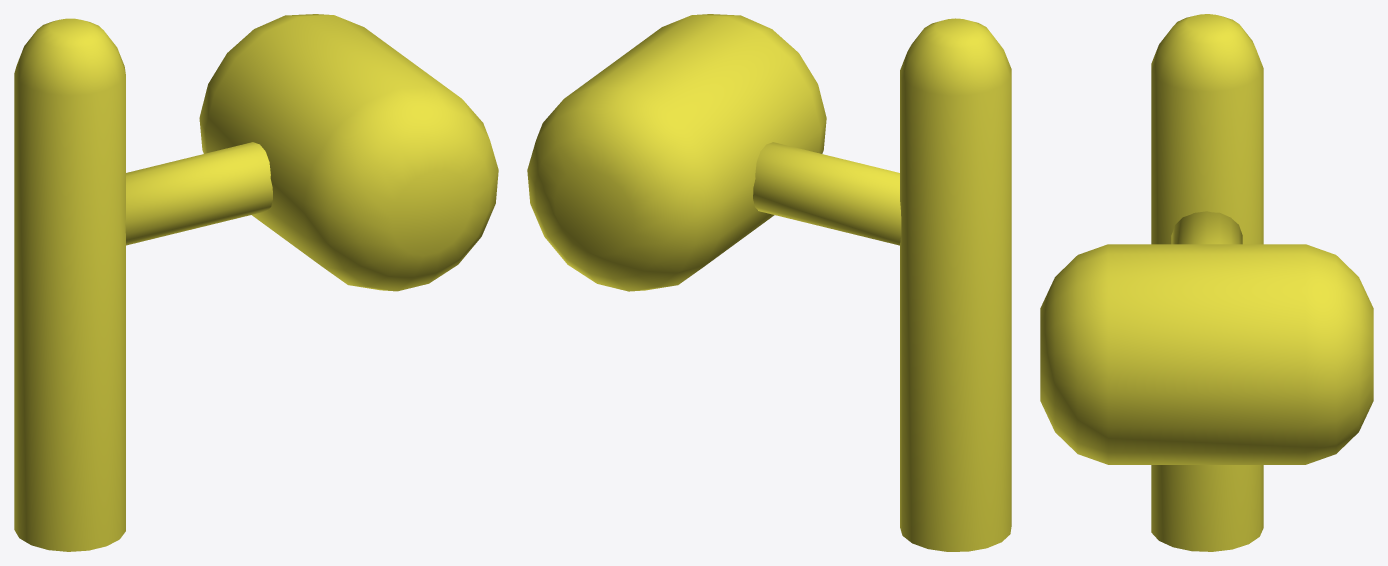
The model's file is SM_HitActor.fbx.
3 views of the same model, side by side, from view 1: azimuth 30°, elevation 25°; view 2: azimuth 150°, elevation 25°; view 3: azimuth 270°, elevation 25° (orthographic).
Visible parts, largest first — view 1: Cylinder.001; view 2: Cylinder.001; view 3: Cylinder.001.
Boxes of the visible parts, x1,y1,x2,y2 form: Cylinder.001: (14,14,498,551); Cylinder.001: (527,14,1011,551); Cylinder.001: (1040,14,1373,551).
Size of the model in its own units: 228 by 258 by 154.
